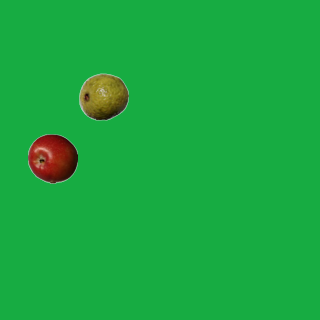Apple Braeburn: (27, 133, 77, 183)
Guava: (78, 71, 128, 121)
